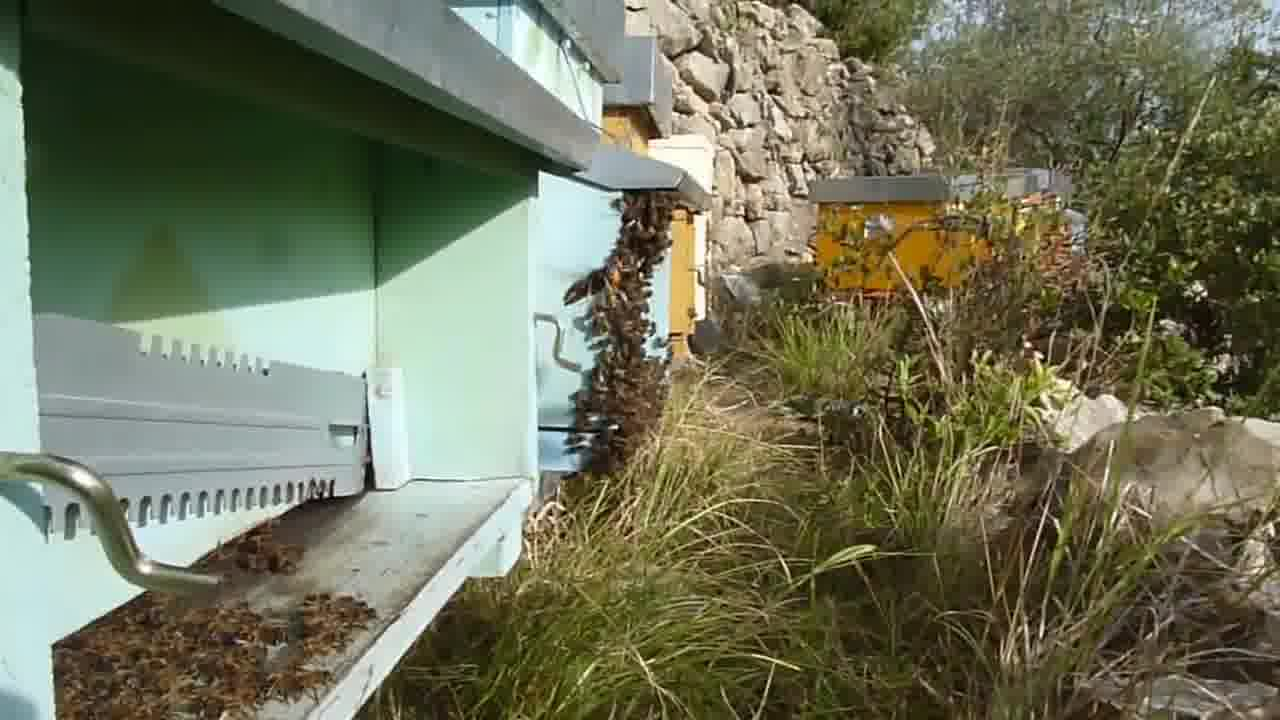bee: (47, 636, 327, 720), (124, 576, 381, 636), (577, 357, 658, 439), (613, 188, 676, 261), (223, 520, 305, 575), (586, 301, 656, 357)
hornet: (556, 259, 632, 313)
